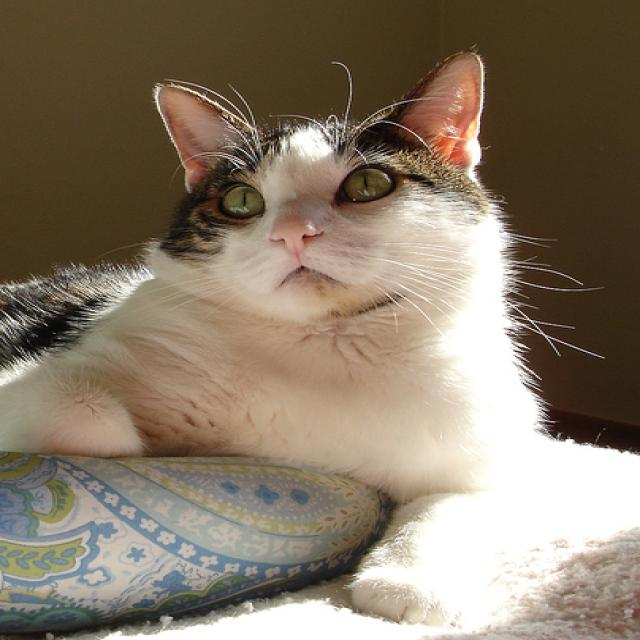left eye: (334, 161, 398, 205)
